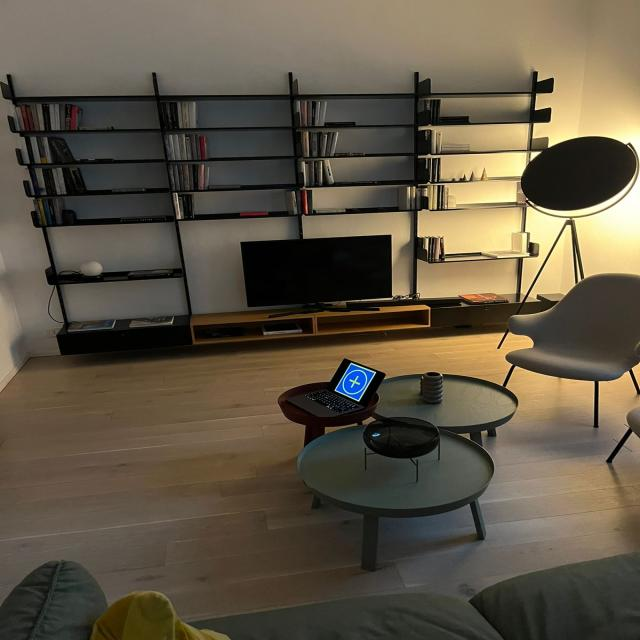Marker: (334, 362, 376, 402)
